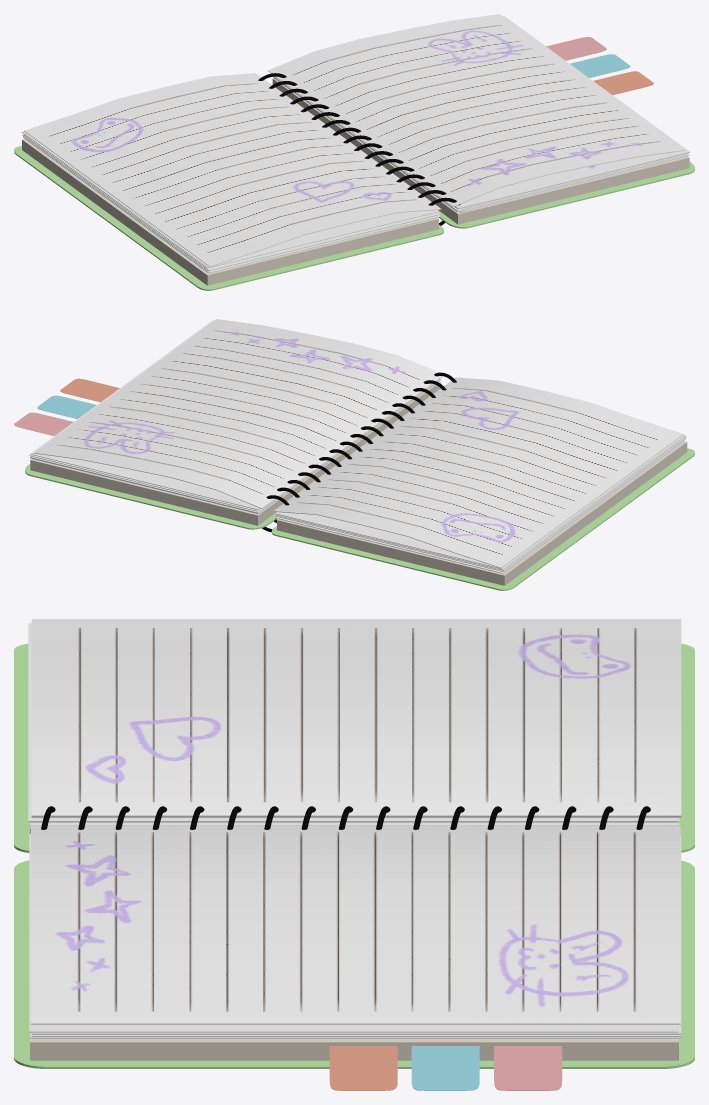
The model's file is Notebook_open.fbx.
3 renders of one model, top to bottom at view 1: azimuth 30°, elevation 25°; view 2: azimuth 150°, elevation 25°; view 3: azimuth 270°, elevation 25°, orthographic. The views are drawn at different scales.
Parts seen in each view (by area): view 1: Page (left), Page (right), Page block (left), Page block (right), Cover (left), Page (right).002, Page (left).001, Spine, Cover (right), Page (left).002, Page (left).004, Bookmark 3 (+5 smaller); view 2: Page (left), Page (right), Page block (left), Page block (right), Cover (left), Page (right).002, Page (left).001, Cover (right), Spine, Page (left).004, Boomark, Bookmark 3 (+6 smaller); view 3: Page (right), Page (left), Page block (right), Cover (right), Page (right).002, Cover (left), Boomark 2, Bookmark 3, Boomark, Page (left).002, Spine, Page (right).001 (+4 smaller).
Boxes of the visible parts, bbox=[...] form: Page (left): bbox=[24, 73, 441, 266]; Page (right): bbox=[268, 14, 685, 206]; Page block (left): bbox=[22, 139, 438, 285]; Page block (right): bbox=[272, 78, 689, 224]; Cover (left): bbox=[14, 146, 443, 290]; Page (right).002: bbox=[455, 16, 689, 208]; Page (left).001: bbox=[22, 131, 439, 268]; Spine: bbox=[258, 73, 460, 225]; Cover (right): bbox=[438, 162, 694, 228]; Page (left).002: bbox=[23, 134, 440, 270]; Page (left).004: bbox=[23, 136, 440, 273]; Bookmark 3: bbox=[593, 71, 653, 94]; Page (left): bbox=[273, 377, 683, 568]; Page (right): bbox=[34, 319, 442, 508]; Page block (left): bbox=[277, 441, 687, 585]; Page block (right): bbox=[30, 381, 440, 525]; Cover (left): bbox=[271, 448, 694, 590]; Page (right).002: bbox=[30, 320, 259, 509]; Page (left).001: bbox=[275, 435, 685, 569]; Cover (right): bbox=[25, 464, 276, 529]; Spine: bbox=[262, 372, 456, 532]; Page (left).004: bbox=[275, 439, 685, 573]; Boomark: bbox=[14, 412, 73, 435]; Bookmark 3: bbox=[60, 378, 119, 402]; Page (right): bbox=[31, 826, 680, 1024]; Page (left): bbox=[31, 619, 681, 816]; Page block (right): bbox=[30, 1033, 678, 1060]; Cover (right): bbox=[14, 860, 694, 1068]; Page (right).002: bbox=[29, 834, 678, 1032]; Cover (left): bbox=[14, 643, 694, 852]; Boomark 2: bbox=[411, 1046, 479, 1090]; Bookmark 3: bbox=[329, 1046, 397, 1090]; Boomark: bbox=[494, 1046, 562, 1090]; Page (left).002: bbox=[28, 623, 677, 821]; Spine: bbox=[41, 806, 650, 829]; Page (right).001: bbox=[31, 836, 681, 1034].
Size of the model in its own units: 355 by 22.47 by 221.
